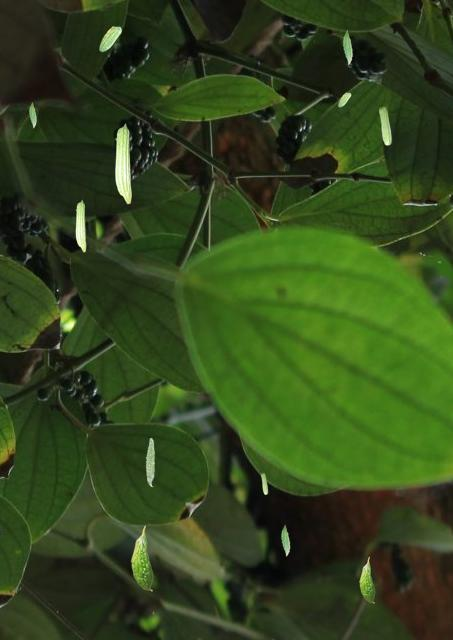ampalaya: (130, 525, 153, 591), (114, 123, 131, 204), (359, 556, 375, 603), (99, 26, 122, 52), (75, 199, 86, 252), (378, 106, 392, 145), (145, 437, 155, 487), (342, 30, 353, 65), (281, 524, 290, 556), (337, 92, 351, 107), (29, 102, 37, 128), (260, 472, 268, 495)
